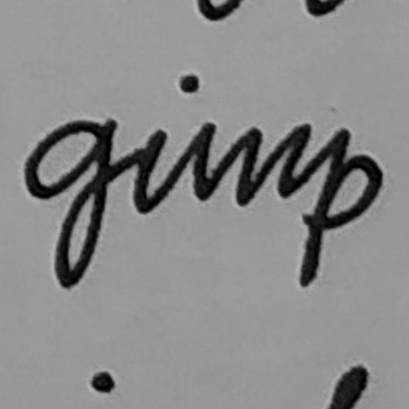g: (20, 113, 126, 292)
i: (130, 82, 188, 216)
m: (190, 115, 317, 208)
p: (293, 125, 387, 293)
